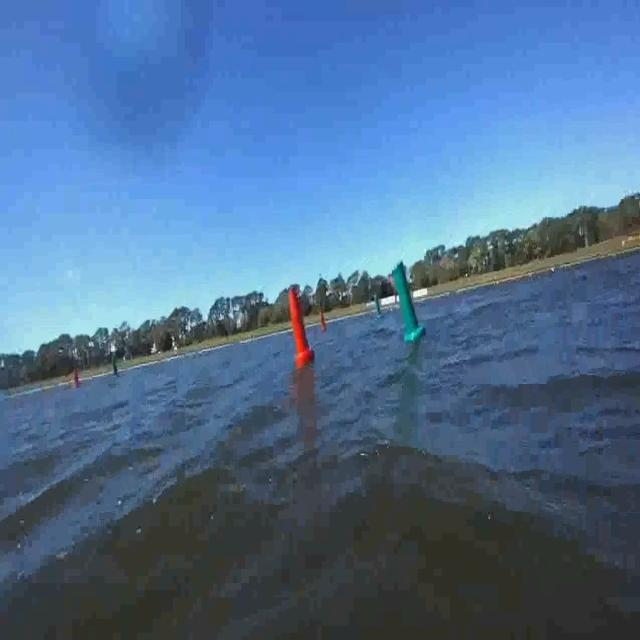green-column-buoy: (390, 262, 425, 342), (373, 292, 382, 317), (112, 352, 120, 375)
red-column-buoy: (287, 284, 313, 364), (319, 307, 327, 332), (73, 364, 81, 388)
